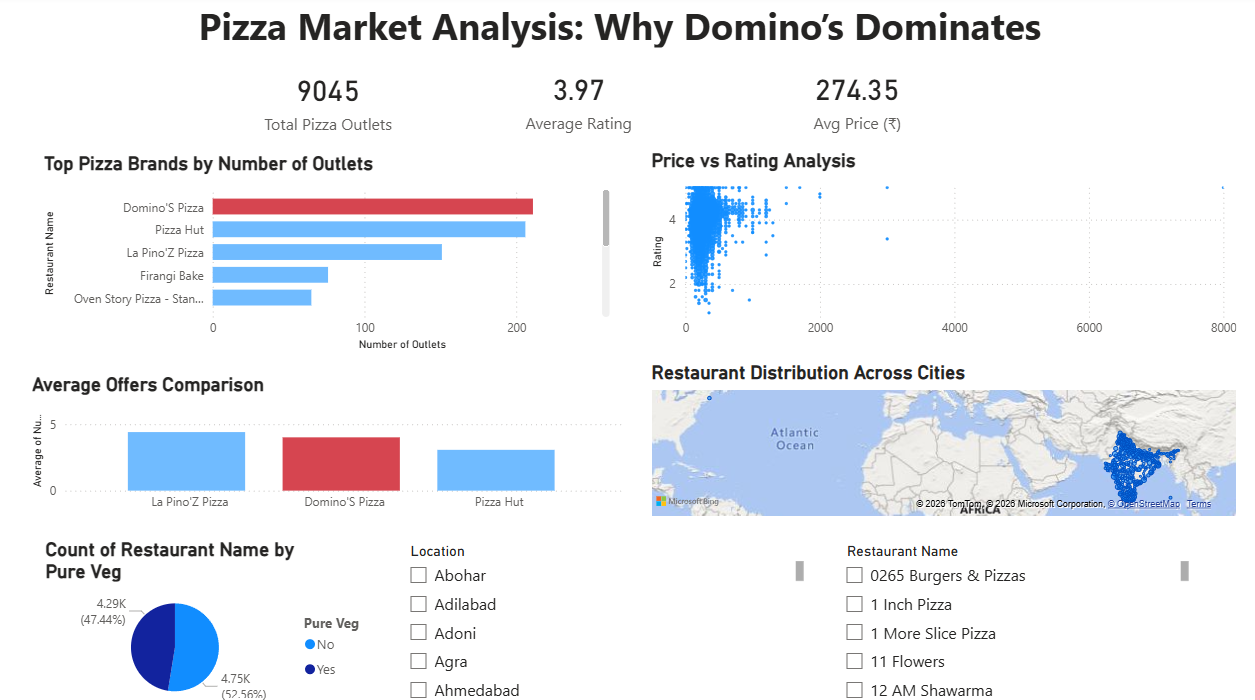

The dashboard page shown, as its layout file describes it:
{"tool":"powerbi","page":{"name":"Page 1","canvas":[1280,720],"ordinal":0},"visuals":[{"type":"textbox","box":[202.1,0,958.4,82.1],"z":0},{"type":"clusteredBarChart","title":"Top Pizza Brands by Number of Outlets","fields":{"Category":["pizza_data.Restaurant Name"],"Y":["CountNonNull(pizza_data.Restaurant Name)"]},"box":[45.8,159.5,581.1,203.7],"z":1000},{"type":"clusteredColumnChart","title":"Average Offers Comparison","fields":{"Category":["pizza_data.Restaurant Name"],"Y":["Avg(pizza_data.Number of Offers)"]},"box":[33.2,382.1,606.3,148.4],"z":2000},{"type":"card","fields":{"Values":["CountNonNull(pizza_data.Restaurant Name)"]},"box":[206.8,55.3,259,101.1],"z":3000},{"type":"card","fields":{"Values":["Avg(pizza_data.Rating)"]},"box":[459.5,53.7,262.1,102.6],"z":4000},{"type":"card","fields":{"Values":["Avg(pizza_data.Average Price)"]},"box":[750,55.3,243.2,99.5],"z":5000},{"type":"map","title":"Restaurant Distribution Across Cities","fields":{"Category":["pizza_data.Location"],"Size":["CountNonNull(pizza_data.Restaurant Name)"]},"box":[658.4,369.5,600,161.1],"z":6000},{"type":"slicer","fields":{"Values":["pizza_data.Location"]},"box":[407.4,547.9,415.3,172.1],"z":7000},{"type":"slicer","fields":{"Values":["pizza_data.Restaurant Name"]},"box":[847.9,547.9,363.2,172.1],"z":8000},{"type":"pieChart","fields":{"Category":["pizza_data.Pure Veg"],"Y":["CountNonNull(pizza_data.Restaurant Name)"]},"box":[47.4,547.9,345.8,172.1],"z":9000},{"type":"scatterChart","title":"Price vs Rating Analysis","fields":{"X":["pizza_data.Average Price"],"Y":["pizza_data.Rating"],"Size":["CountNonNull(pizza_data.Offer Name)"]},"box":[658.4,156.3,600,206.8],"z":10000}]}

Visuals, with their boxes in screenshot pixels (x1, y1, x2, y2), scaled from the page's 1280x720 canvas onto the 1255x700 screenshot:
textbox: box=[198, 0, 1138, 80]
"Top Pizza Brands by Number of Outlets" clusteredBarChart: box=[45, 155, 615, 353]
"Average Offers Comparison" clusteredColumnChart: box=[33, 371, 627, 516]
card - CountNonNull(pizza_data.Restaurant Name): box=[203, 54, 457, 152]
card - Avg(pizza_data.Rating): box=[451, 52, 708, 152]
card - Avg(pizza_data.Average Price): box=[735, 54, 974, 150]
"Restaurant Distribution Across Cities" map: box=[646, 359, 1234, 516]
slicer - pizza_data.Location: box=[399, 533, 807, 699]
slicer - pizza_data.Restaurant Name: box=[831, 533, 1187, 699]
pieChart - pizza_data.Pure Veg x CountNonNull(pizza_data.Restaurant Name): box=[46, 533, 386, 699]
"Price vs Rating Analysis" scatterChart: box=[646, 152, 1234, 353]
